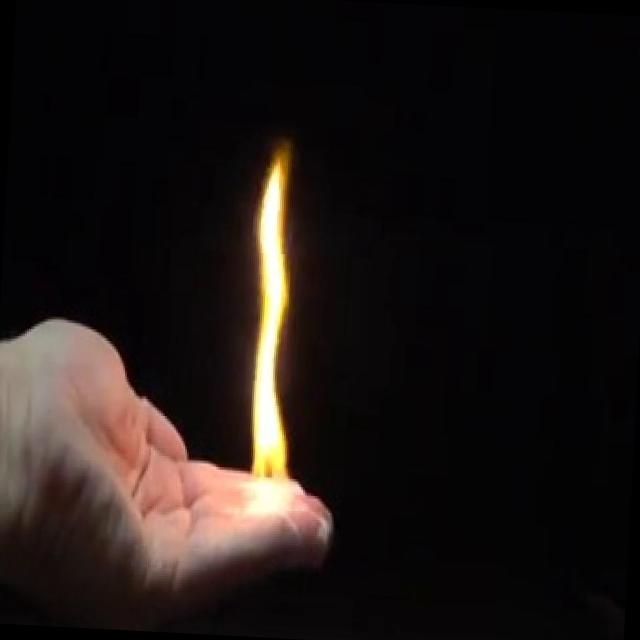Fire: (237, 148, 316, 518)
